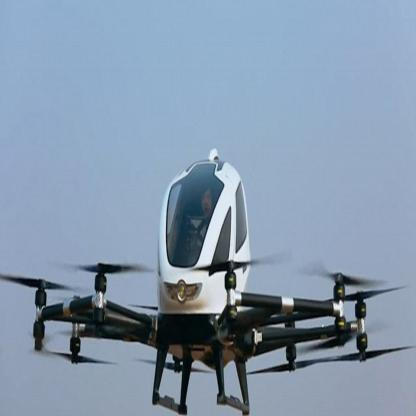drone: (6, 238, 408, 416)
